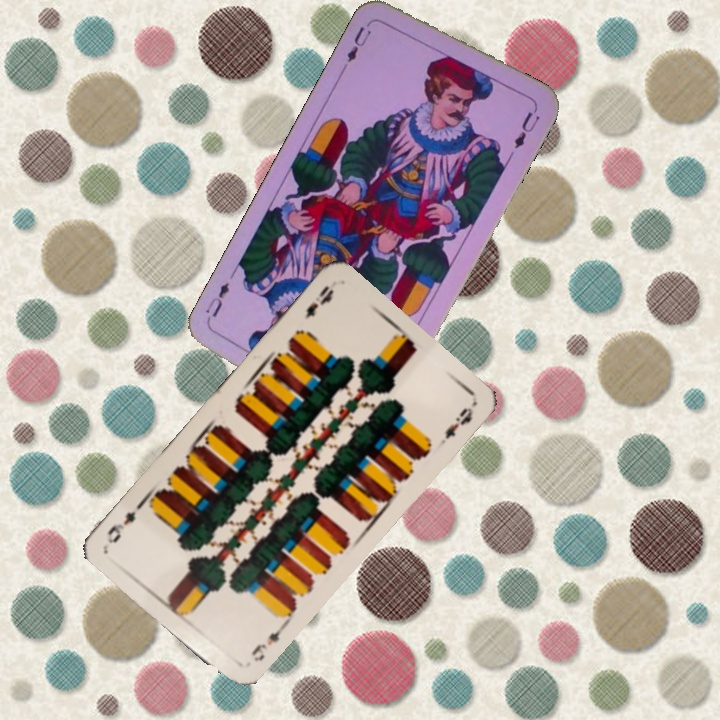E9: (247, 621, 287, 664), (300, 281, 337, 321)
EU: (339, 17, 375, 71)
